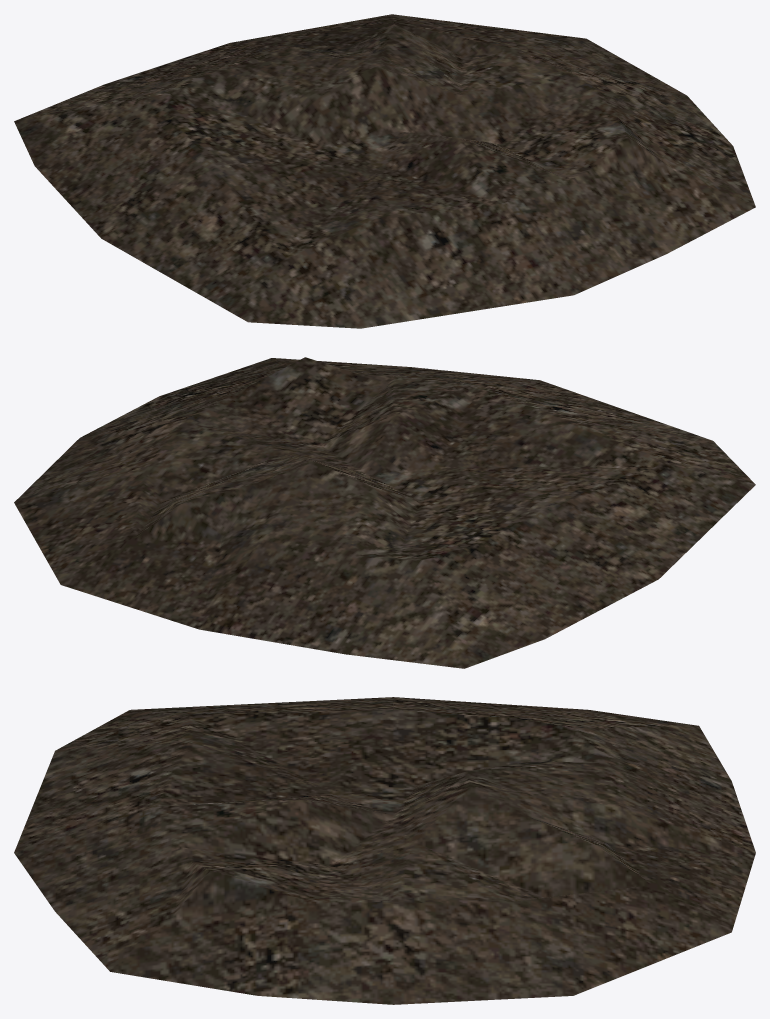
File: dirt_pile.dae
3 views of the same model, one above another, from view 1: azimuth 30°, elevation 25°; view 2: azimuth 150°, elevation 25°; view 3: azimuth 270°, elevation 25° (orthographic). The views are drawn at different scales.
Visible parts, largest first — view 1: cellarbase_floor_dirt_pile; view 2: cellarbase_floor_dirt_pile; view 3: cellarbase_floor_dirt_pile.
Boxes of the visible parts, bbox=[...] form: cellarbase_floor_dirt_pile: bbox=[14, 14, 755, 328]; cellarbase_floor_dirt_pile: bbox=[14, 357, 755, 668]; cellarbase_floor_dirt_pile: bbox=[14, 697, 755, 1004].
Bounding box in the file's own units: 2.15 × 0.2406 × 2.19.
